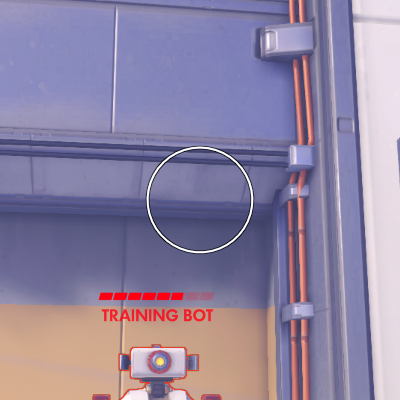hpbar: (99, 292, 214, 300)
